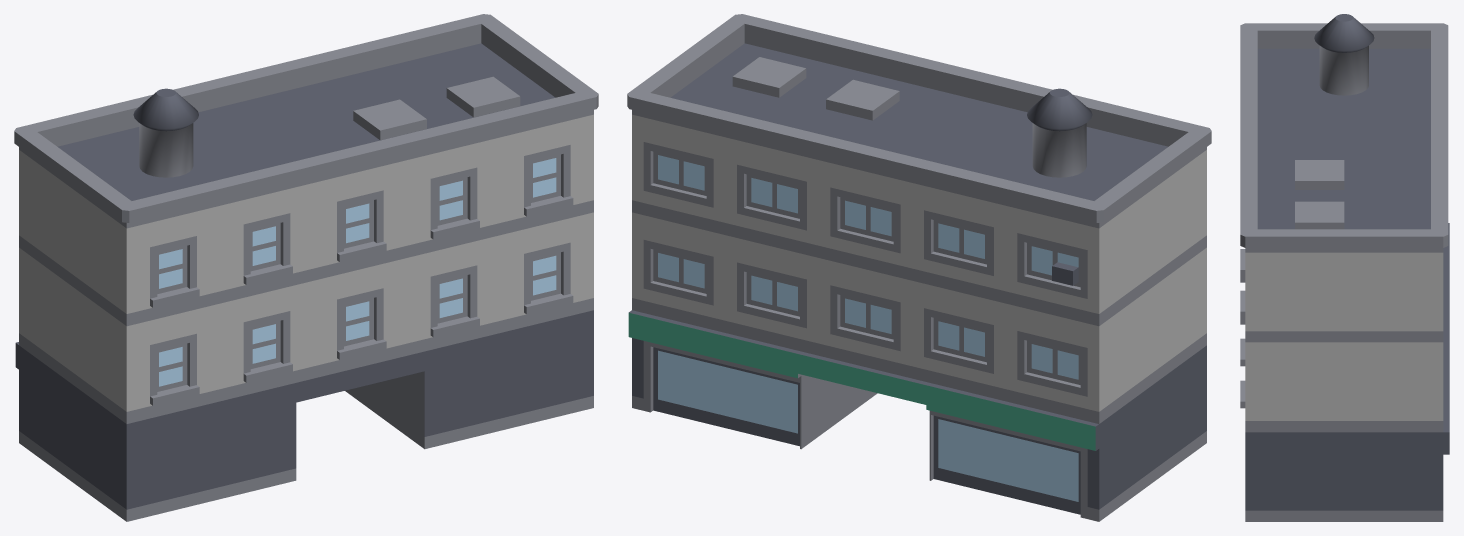
Rendered from large-building-without-door.glb.
3 views of the same model, side by side, from view 1: azimuth 30°, elevation 25°; view 2: azimuth 150°, elevation 25°; view 3: azimuth 270°, elevation 25° (orthographic). The views are drawn at different scales.
Parts seen in each view (by area): view 1: large_buildingF; view 2: large_buildingF; view 3: large_buildingF.
Part boxes in pixels (bbox=[...]): large_buildingF: bbox=[14, 14, 598, 521]; large_buildingF: bbox=[627, 14, 1211, 521]; large_buildingF: bbox=[1240, 14, 1449, 521].
Size of the model in its own units: 2.04 by 1.5 by 0.845.
